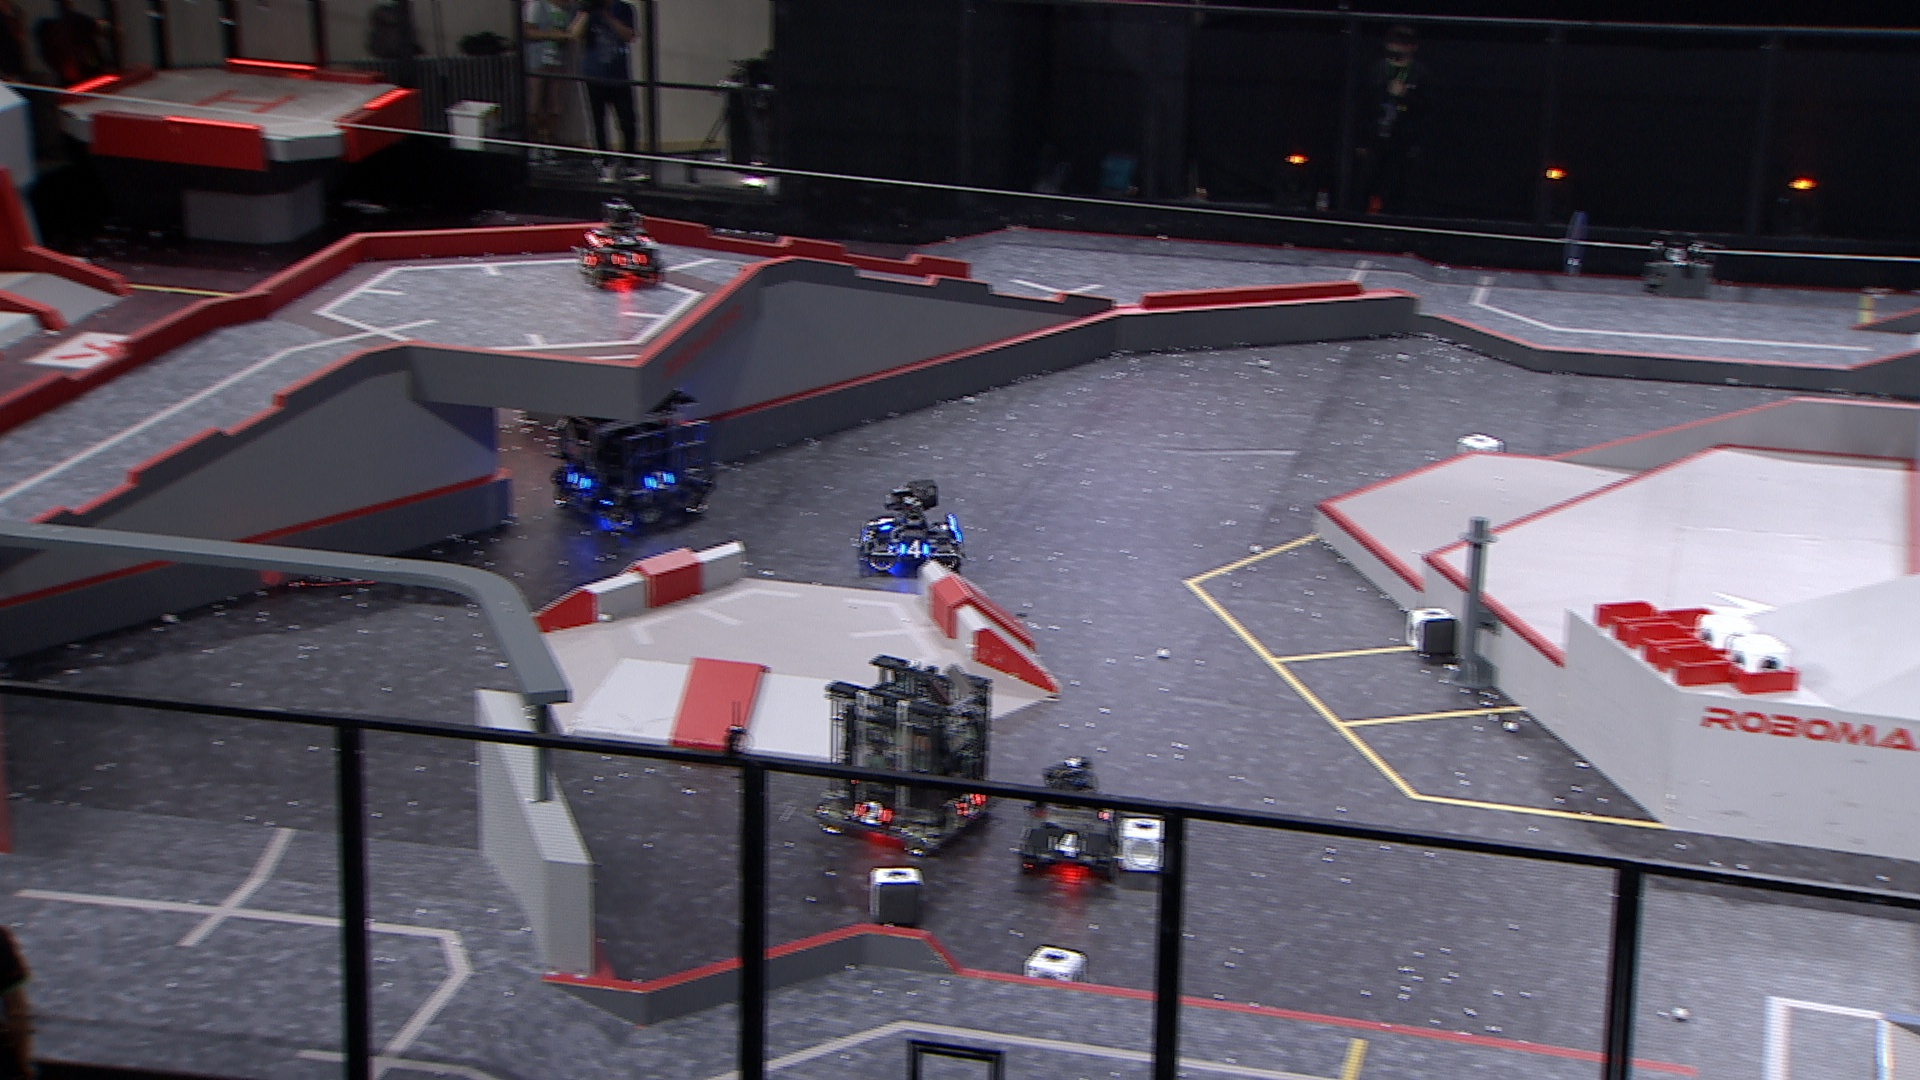armor: (1044, 829, 1091, 860), (855, 796, 897, 827), (953, 787, 984, 820), (560, 465, 591, 495), (895, 537, 928, 562), (600, 232, 651, 248), (611, 249, 646, 272), (645, 467, 675, 491), (578, 243, 597, 272), (869, 516, 895, 531)
car: (814, 651, 1002, 855), (551, 381, 721, 541), (1015, 754, 1125, 880), (852, 477, 969, 579), (575, 196, 670, 291)
